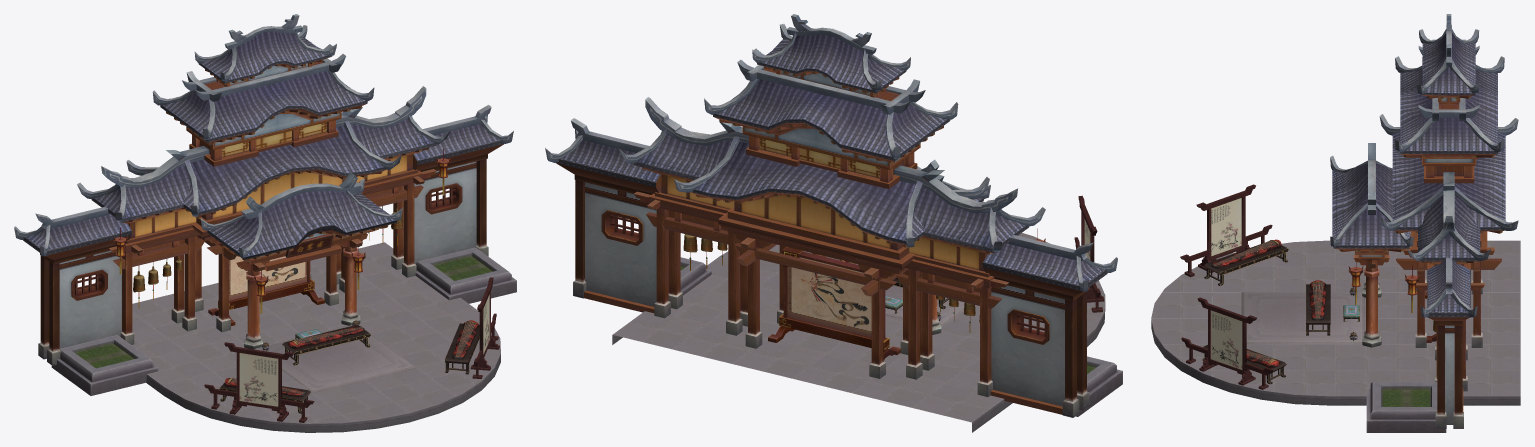
File: ZYbui_CLF_qinpaifang01.FBX
3 views of the same model, side by side, from view 1: azimuth 30°, elevation 25°; view 2: azimuth 150°, elevation 25°; view 3: azimuth 270°, elevation 25° (orthographic). The views are drawn at different scales.
Parts seen in each view (by area): view 1: ZYbui_CLF_qinpaifang01, ZYthi_CLF_qinpingfeng01 (×2), ZYthi_CLF_guqin01 (×2), ZYthi_CLF_guqin002, ZYthi_CLF_bianzhong01; view 2: ZYbui_CLF_qinpaifang01, ZYthi_CLF_qinpingfeng01, ZYthi_CLF_bianzhong01; view 3: ZYbui_CLF_qinpaifang01, ZYthi_CLF_qinpingfeng01 (×2), ZYthi_CLF_guqin01 (×2), ZYthi_CLF_guqin002.
Part boxes in pixels (x1,y1,x2,y2): ZYbui_CLF_qinpaifang01: [14, 14, 516, 432]; ZYthi_CLF_qinpingfeng01 (×2): [204, 277, 499, 422]; ZYthi_CLF_guqin01 (×2): [219, 324, 370, 413]; ZYthi_CLF_guqin002: [445, 320, 479, 374]; ZYthi_CLF_bianzhong01: [133, 202, 402, 308]; ZYbui_CLF_qinpaifang01: [545, 14, 1122, 432]; ZYthi_CLF_qinpingfeng01: [1074, 195, 1104, 312]; ZYthi_CLF_bianzhong01: [683, 234, 979, 332]; ZYbui_CLF_qinpaifang01: [1151, 14, 1520, 432]; ZYthi_CLF_qinpingfeng01 (×2): [1180, 184, 1273, 389]; ZYthi_CLF_guqin01 (×2): [1204, 239, 1330, 335]; ZYthi_CLF_guqin002: [1202, 344, 1286, 384].
Bounding box in the file's own units: 2210 × 1301 × 1466.
